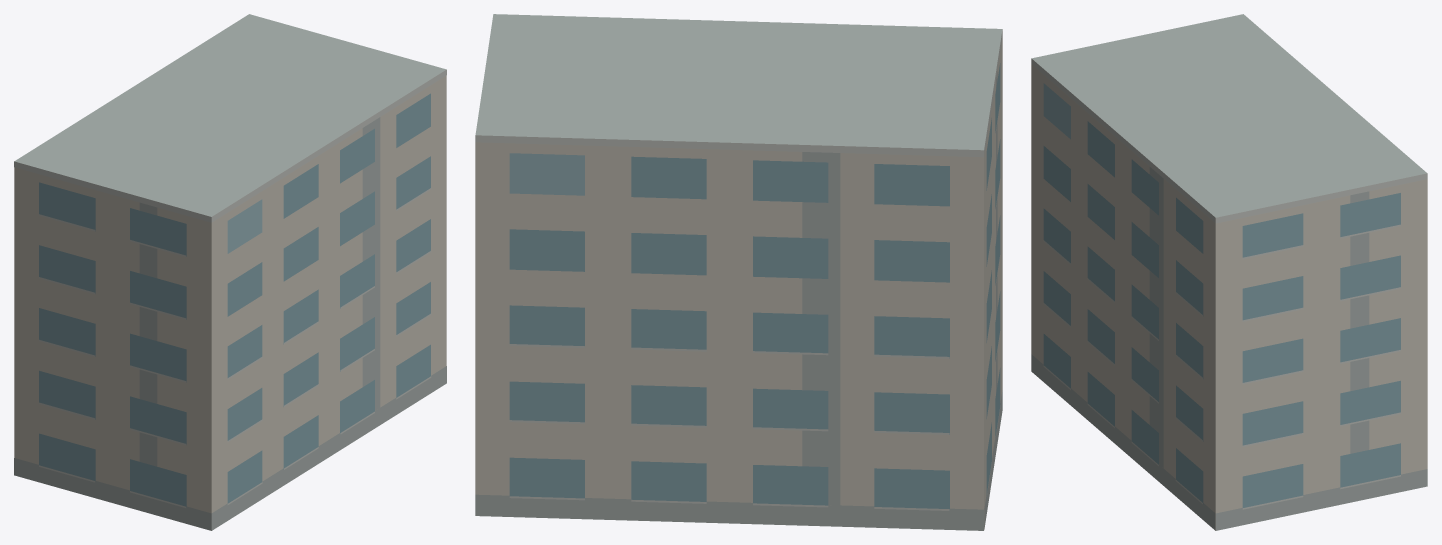
Rendered from survey-upis-32891436.glb.
3 renders of one model, left to right at view 1: azimuth 30°, elevation 25°; view 2: azimuth 150°, elevation 25°; view 3: azimuth 270°, elevation 25°, orthographic. The views are drawn at different scales.
Parts seen in each view (by area): view 1: survey-upis-32891436.tmp; view 2: survey-upis-32891436.tmp; view 3: survey-upis-32891436.tmp.
Boxes of the visible parts, <box> form: survey-upis-32891436.tmp: <box>14,14,446,530</box>; survey-upis-32891436.tmp: <box>475,14,1002,530</box>; survey-upis-32891436.tmp: <box>1031,14,1427,530</box>.
Bounding box in the file's own units: 18.43 × 13.2 × 15.14.
